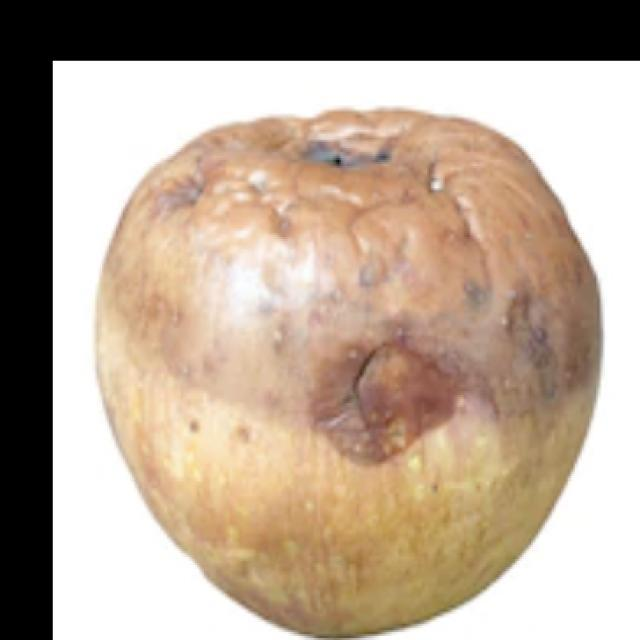Rotten: (86, 100, 606, 640)
